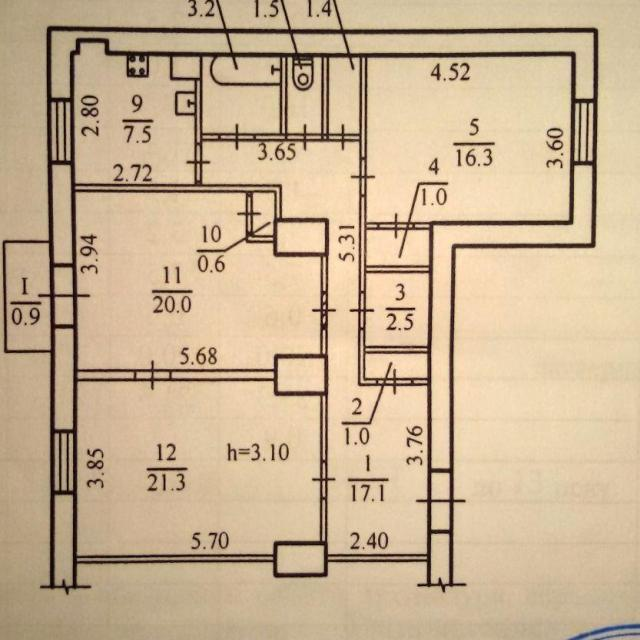Bathrooms: (203, 56, 279, 134), (290, 58, 322, 133)
Corridors: (203, 142, 428, 552), (5, 243, 49, 349), (369, 274, 427, 346), (329, 57, 359, 134), (368, 230, 428, 265), (366, 354, 427, 379), (255, 194, 274, 233)
Doors: (37, 266, 92, 325), (413, 472, 469, 528), (135, 356, 172, 392), (310, 460, 338, 500), (378, 210, 414, 241), (286, 122, 322, 153), (309, 291, 339, 327), (376, 367, 413, 396), (184, 144, 213, 181), (219, 121, 255, 150), (350, 158, 375, 197), (329, 122, 359, 154), (348, 292, 374, 328), (235, 197, 261, 233)
LBwalls: (428, 163, 596, 473), (46, 25, 599, 99), (49, 164, 77, 265), (51, 327, 77, 429), (49, 495, 76, 590), (274, 352, 328, 396), (274, 217, 329, 257), (273, 540, 329, 577), (428, 530, 453, 587), (170, 55, 203, 79)
Offices: (77, 194, 321, 368), (77, 382, 319, 555), (369, 58, 568, 220), (75, 43, 194, 182)
Walls: (74, 182, 283, 219), (358, 195, 431, 293), (358, 328, 428, 387), (255, 57, 287, 142), (194, 79, 219, 144), (77, 555, 272, 563), (172, 367, 274, 380), (327, 554, 427, 563), (360, 56, 368, 158), (77, 370, 136, 381), (322, 55, 329, 142), (321, 397, 328, 460), (319, 500, 327, 541), (246, 233, 273, 244), (320, 257, 328, 292), (322, 327, 328, 355), (412, 378, 428, 386), (414, 222, 431, 229)
Windows: (51, 429, 77, 494), (572, 98, 595, 165), (50, 99, 73, 164)
